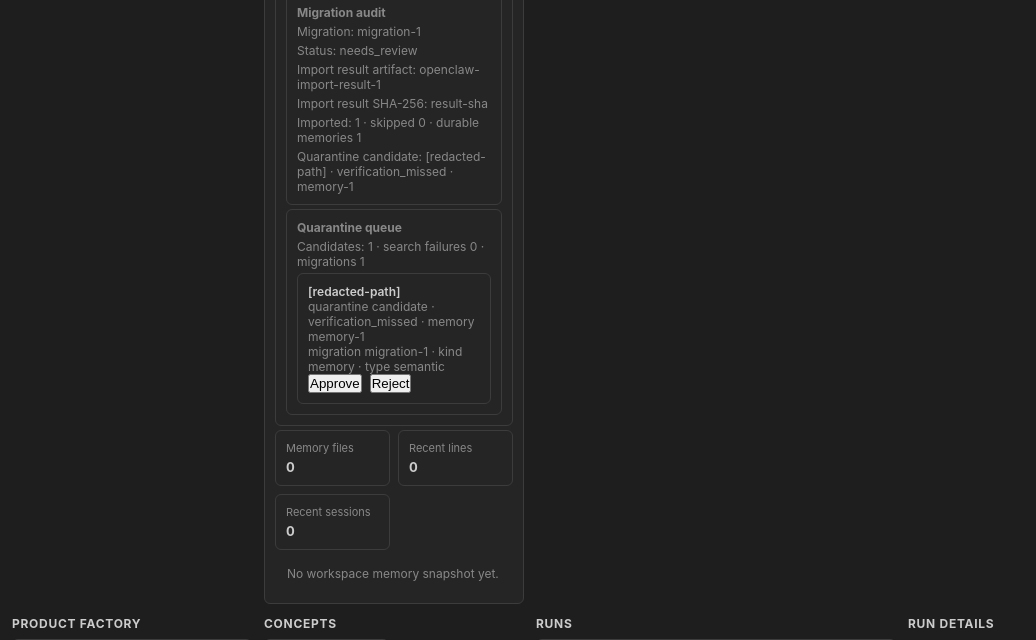
Test: OrchestrationPanel › reviews quarantined OpenClaw memories inline from the migration queue
Check: the text "Quarantine queue" is shown, box x1=297 y1=220 x2=402 y2=235
Check: the text "quarantine candidate · verification_missed · memory memory-1" is shown, box x1=308 y1=299 x2=480 y2=344
Step 1. Click the button "Approve" → (335, 384), box x1=308 y1=374 x2=362 y2=393
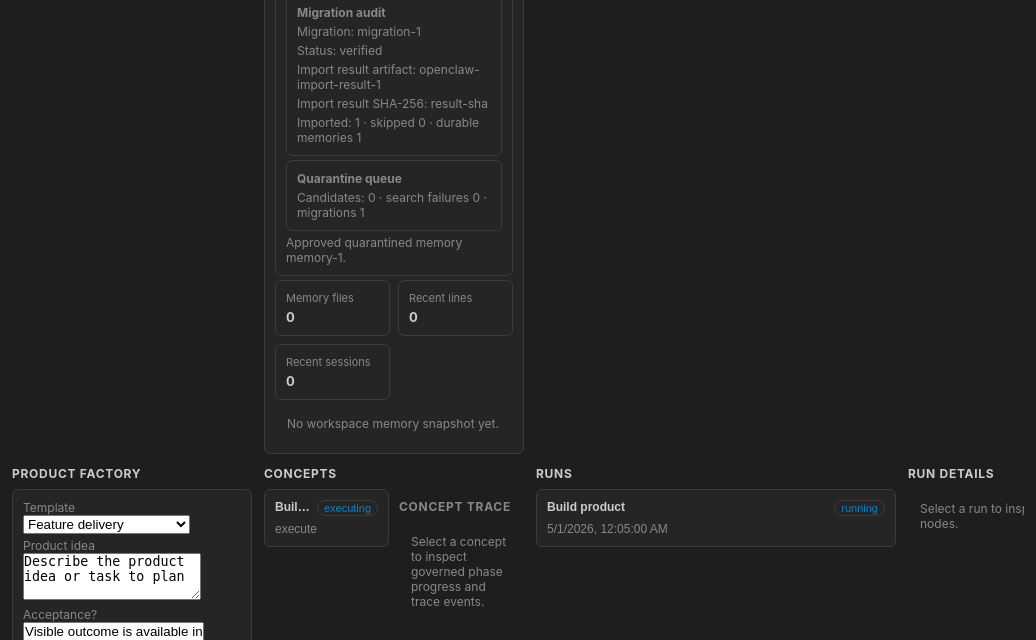
Check: the text "Approved quarantined memory memory-1." is shown, box x1=286 y1=235 x2=462 y2=265
Check: the text "Status: verified" is shown, box x1=297 y1=43 x2=382 y2=58
Check: the text "Candidates: 0 · search failures 0 · migrations 1" is shown, box x1=297 y1=190 x2=491 y2=220
